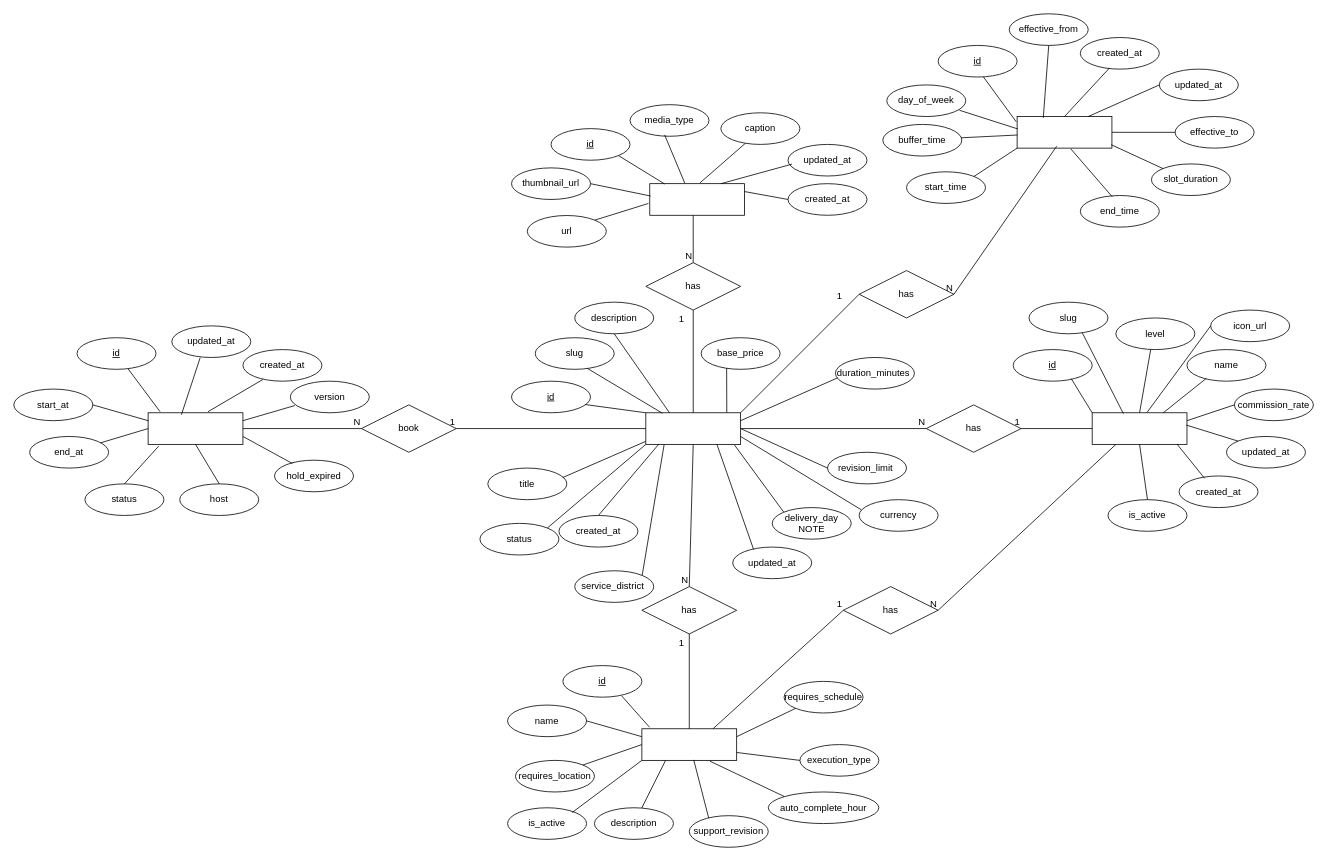
The diagram is 1327 pixels wide and 861 high, and some of its shapes have lost their labels. Each missing label, with the box of its shape:
AVAILABILITY_RULE: (1016, 116, 1112, 148)
BOOKING_SLOT: (147, 412, 243, 444)
CATEGORY: (1091, 412, 1187, 444)
SERVICE: (645, 412, 741, 444)
SERVICE_MEDIA: (649, 183, 745, 215)
WORKFLOW_TYPE: (641, 728, 737, 760)
